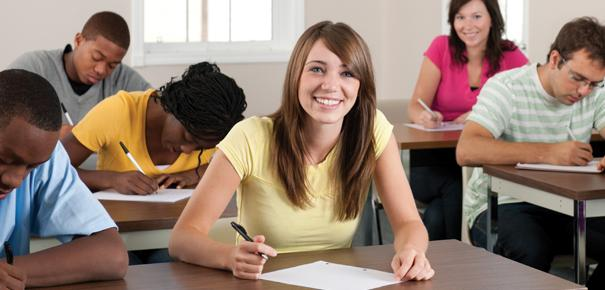student: (227, 13, 455, 289), (67, 32, 270, 208), (1, 59, 135, 286), (450, 24, 605, 176), (395, 5, 540, 128)
